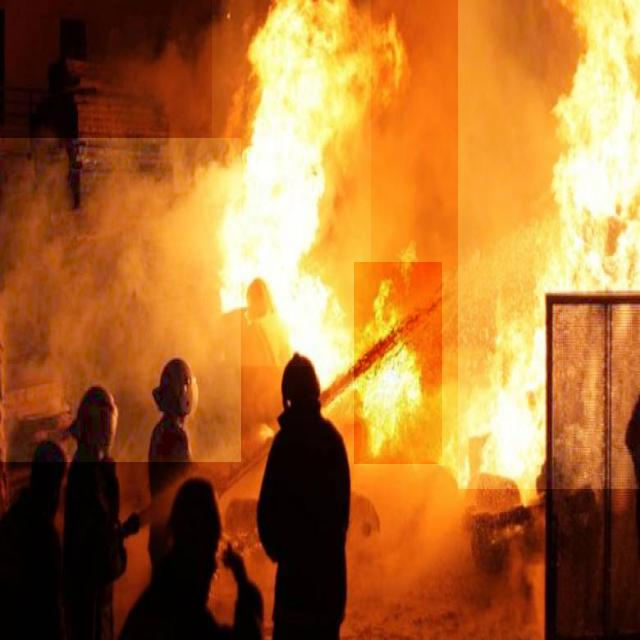Fire: (458, 0, 640, 489), (212, 0, 371, 366), (354, 262, 442, 464)
Smoke: (0, 138, 241, 462)
